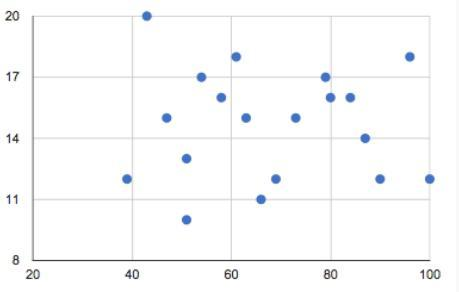axis: (32, 254, 434, 267), (25, 14, 40, 263)
point: (120, 171, 136, 186), (239, 110, 254, 125), (254, 190, 268, 206), (158, 112, 175, 125), (180, 212, 194, 227), (180, 151, 194, 165), (140, 10, 154, 23), (230, 50, 244, 63), (359, 131, 372, 145), (290, 110, 302, 125), (374, 172, 386, 187), (404, 50, 417, 63), (320, 70, 333, 83), (270, 172, 283, 185), (424, 172, 437, 185), (345, 90, 357, 104), (325, 90, 337, 104), (195, 71, 209, 83), (216, 90, 228, 104)
